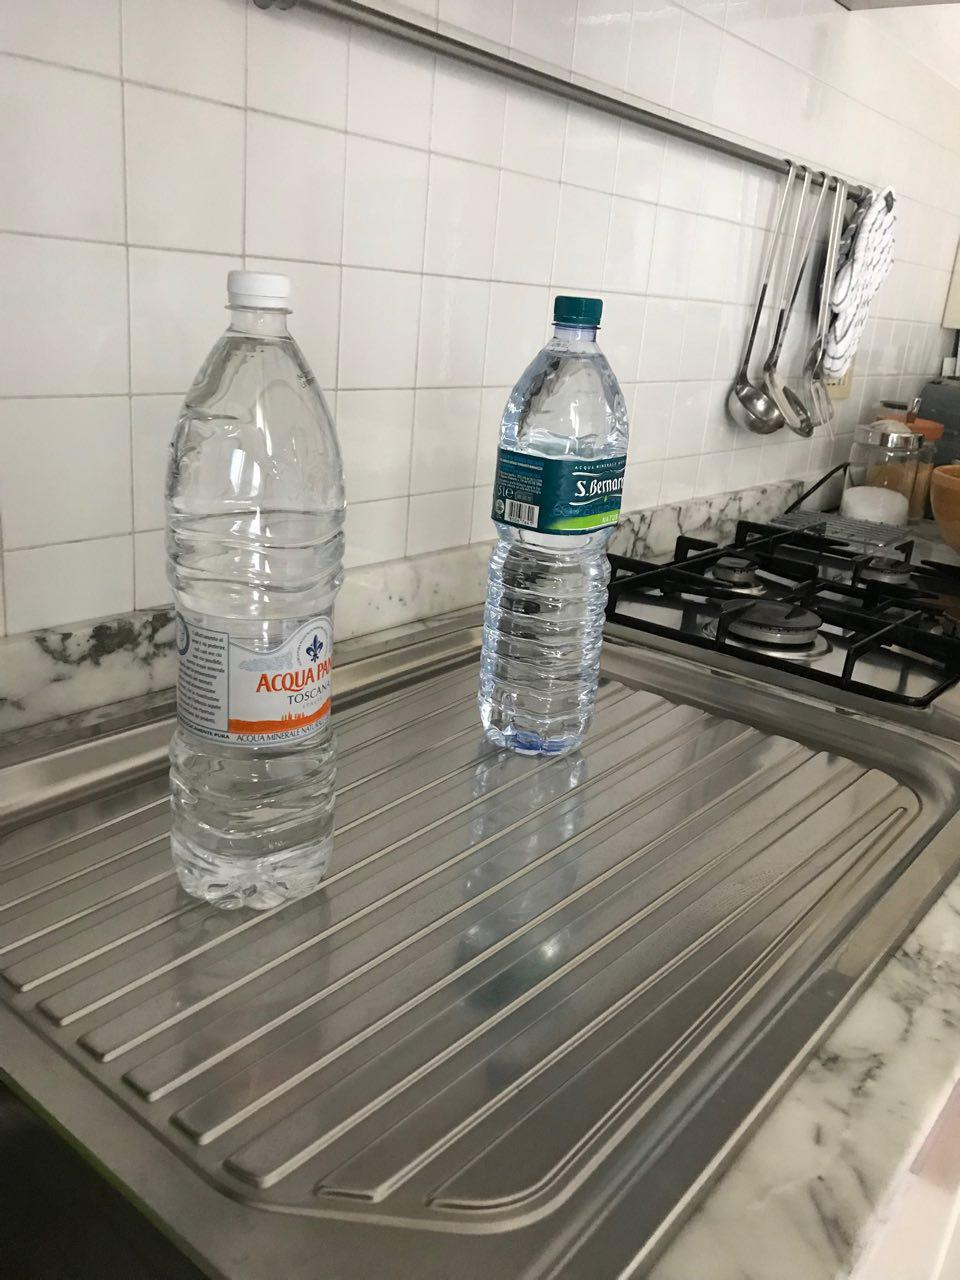san_bernardo: (477, 294, 630, 756)
